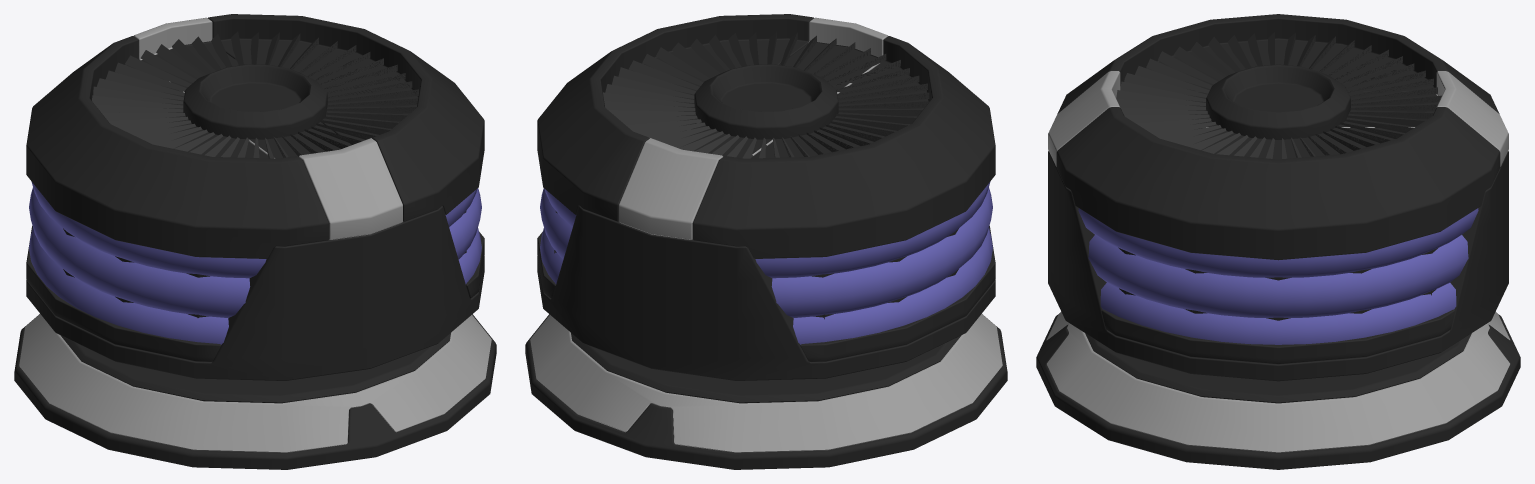
Rendered from Scifi_Bouncer_SM.fbx.
3 views of the same model, side by side, from view 1: azimuth 30°, elevation 25°; view 2: azimuth 150°, elevation 25°; view 3: azimuth 270°, elevation 25° (orthographic).
Visible parts, largest first — view 1: Cylinder.005, Cylinder.004, Slice.001, Torus.005, Cube.009, Slice, Slice.002; view 2: Cylinder.005, Cylinder.004, Slice.001, Torus.005, Cube.009, Slice, Slice.002; view 3: Cylinder.005, Cylinder.004, Torus.005, Slice.001, Cube.009, Slice.002, Slice.
Part boxes in pixels (<box>): Cylinder.005: <box>26,14,484,361</box>; Cylinder.004: <box>14,206,496,469</box>; Slice.001: <box>19,314,491,452</box>; Torus.005: <box>29,181,481,344</box>; Cube.009: <box>92,31,418,158</box>; Slice: <box>134,17,402,239</box>; Slice.002: <box>183,64,327,139</box>; Cylinder.005: <box>537,14,995,361</box>; Cylinder.004: <box>525,206,1007,469</box>; Slice.001: <box>530,314,1002,452</box>; Torus.005: <box>540,181,992,344</box>; Cube.009: <box>603,31,929,158</box>; Slice: <box>619,17,887,239</box>; Slice.002: <box>694,64,838,139</box>; Cylinder.005: <box>1056,14,1500,364</box>; Cylinder.004: <box>1036,151,1520,469</box>; Torus.005: <box>1078,208,1478,344</box>; Slice.001: <box>1046,312,1510,452</box>; Cube.009: <box>1116,32,1441,158</box>; Slice.002: <box>1206,64,1350,139</box>; Slice: <box>1048,71,1508,166</box>.
Size of the model in its own units: 92.65 by 59 by 92.65.
